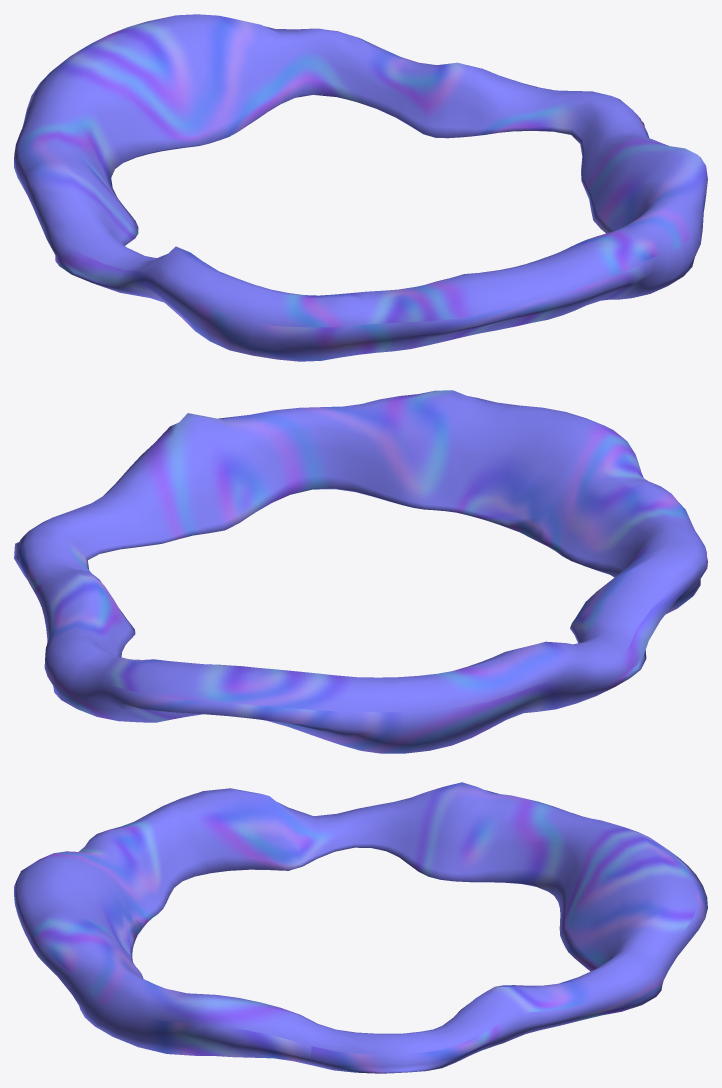
File: p_mesh_trashbot_exploding_waves_pose0.fbx
The picture shows the model from 3 angles, top to bottom: view 1: azimuth 30°, elevation 25°; view 2: azimuth 150°, elevation 25°; view 3: azimuth 270°, elevation 25°; orthographic projection. The views are drawn at different scales.
Parts seen in each view (by area): view 1: Retopo_Slimewave_pose0; view 2: Retopo_Slimewave_pose0; view 3: Retopo_Slimewave_pose0.
Part boxes in pixels (left/top/right/bottom): Retopo_Slimewave_pose0: left=14, top=14, right=707, bottom=361; Retopo_Slimewave_pose0: left=14, top=390, right=707, bottom=753; Retopo_Slimewave_pose0: left=14, top=782, right=707, bottom=1073.
Size of the model in its own units: 31.17 by 4.25 by 35.7.
